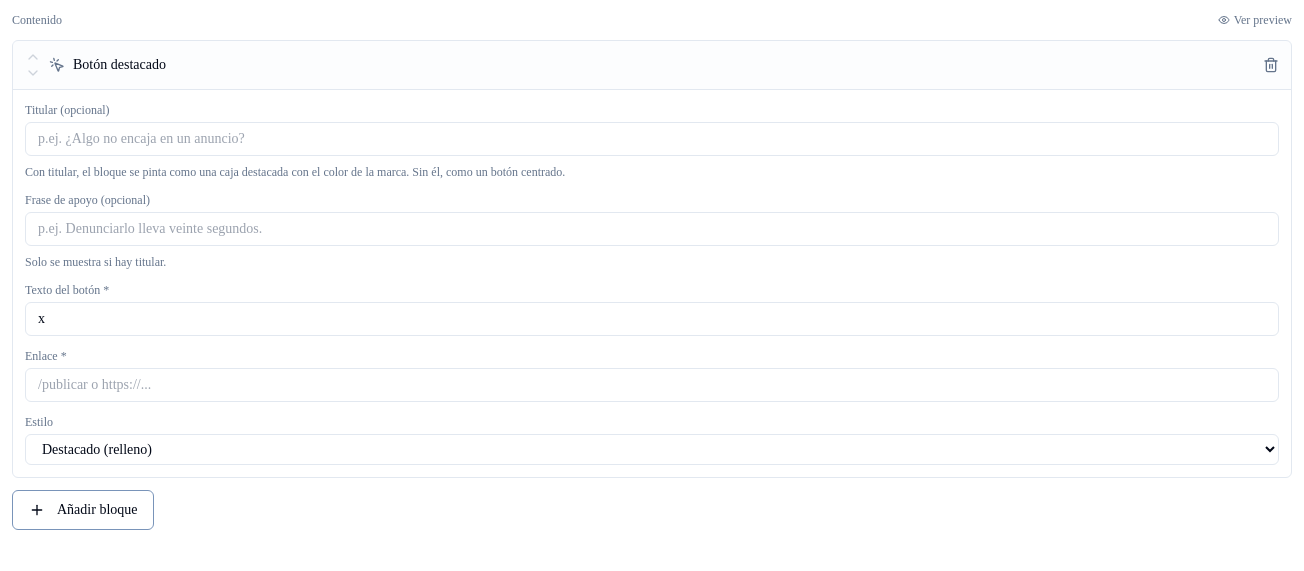
Test: BlockEditor — formularios producen bloques válidos › cta: href con javascript: muestra el error inline claro
The width and height of the screenshot is (1304, 571).
Type "javascript:alert(1)" into the field with placeholder "/publicar o https://...".
click(652, 385); type("javascript:alert(1)")  # box x1=25 y1=368 x2=1279 y2=402
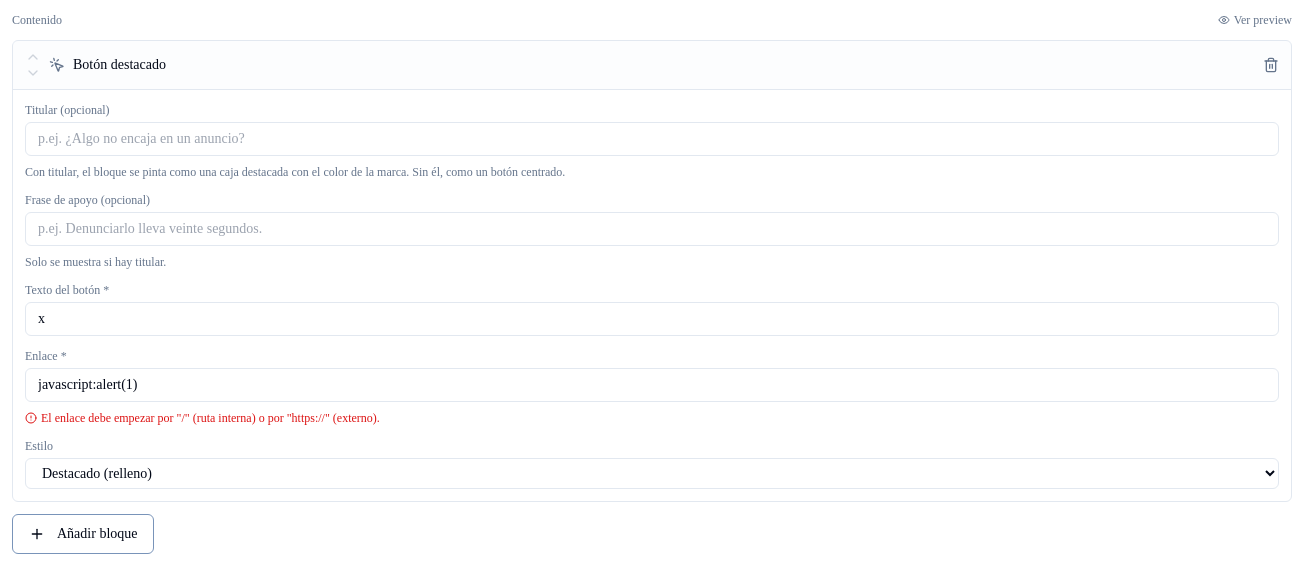
Check: the text "El enlace debe empezar por" is shown, box x1=41 y1=411 x2=380 y2=425
